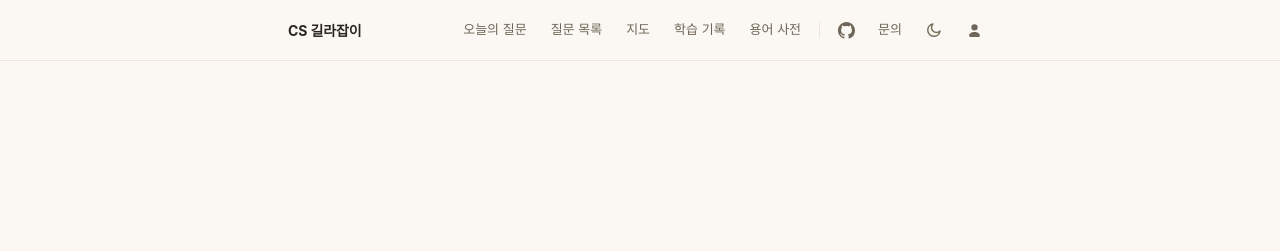
Test: SiteHeader · 바깥 링크 › 열면 GitHub 이슈와 메일 주소가 함께 나온다
Click the button "문의".
click(890, 30)  # box [868,7,912,53]
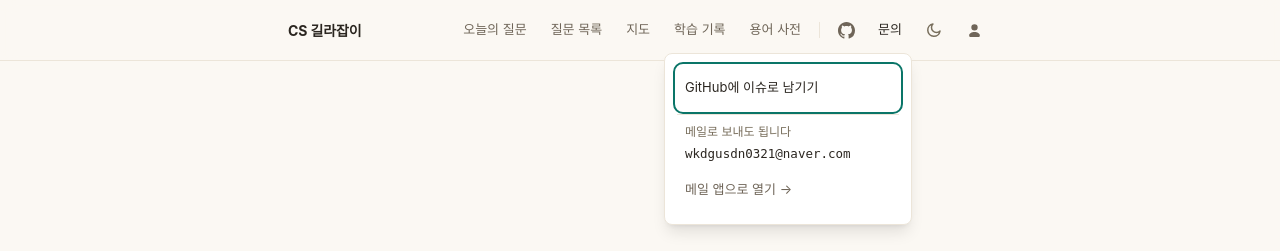
Expected: the text "wkdgusdn0321@naver.com" is shown, [685,146,851,161]
